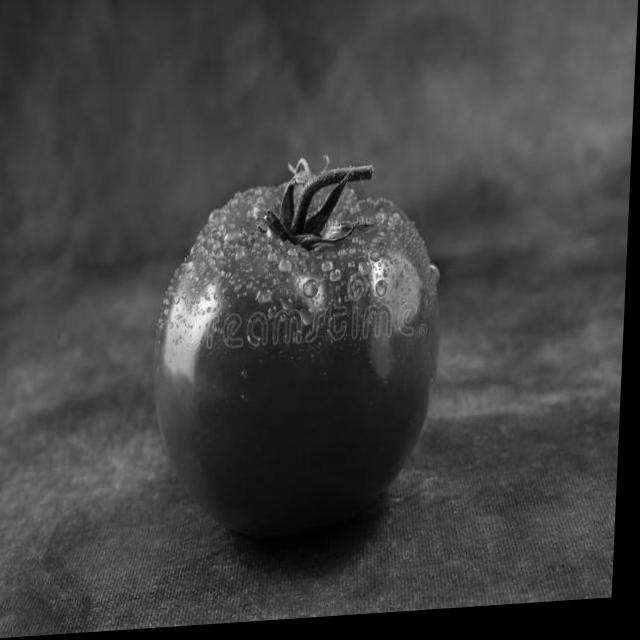kirmizi: (129, 123, 467, 586)
